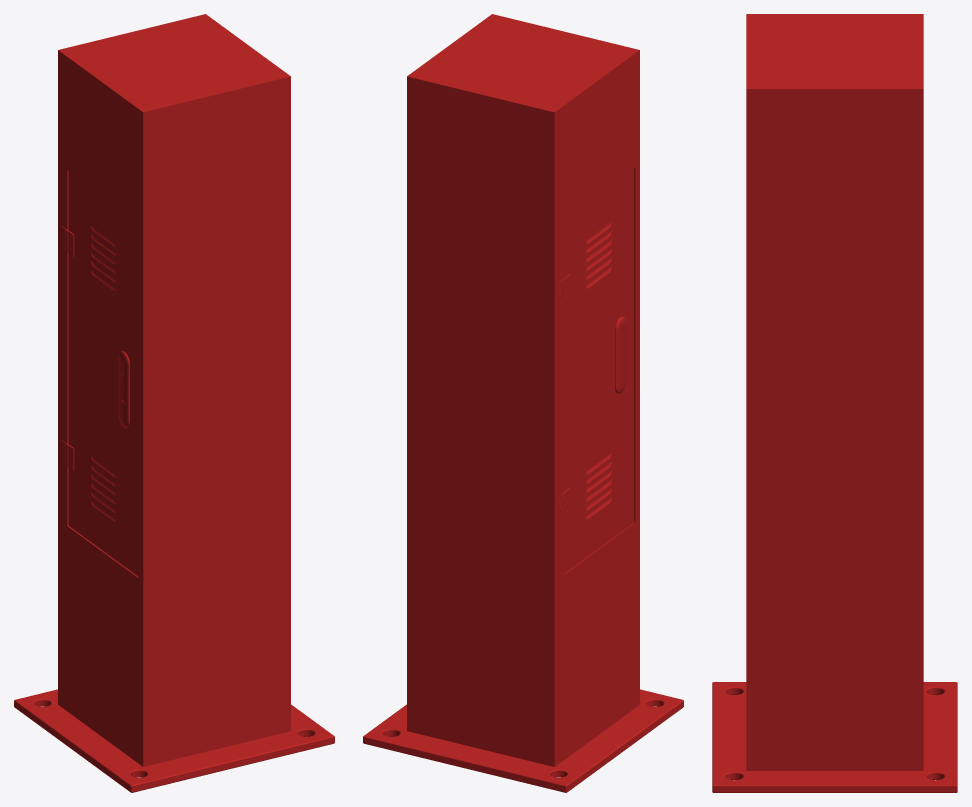
The picture shows the model from 3 angles, left to right: view 1: azimuth 30°, elevation 25°; view 2: azimuth 150°, elevation 25°; view 3: azimuth 270°, elevation 25°; orthographic projection. The views are drawn at different scales.
Parts seen in each view (by area): view 1: C:/Users/user/Desktop/新建文件夹/88888.obj; view 2: C:/Users/user/Desktop/新建文件夹/88888.obj; view 3: C:/Users/user/Desktop/新建文件夹/88888.obj.
Boxes of the visible parts, x1,y1,x2,y2 form: C:/Users/user/Desktop/新建文件夹/88888.obj: [14, 14, 334, 792]; C:/Users/user/Desktop/新建文件夹/88888.obj: [363, 14, 683, 792]; C:/Users/user/Desktop/新建文件夹/88888.obj: [712, 14, 957, 792].
Bounding box in the file's own units: 483 × 1500 × 483.
